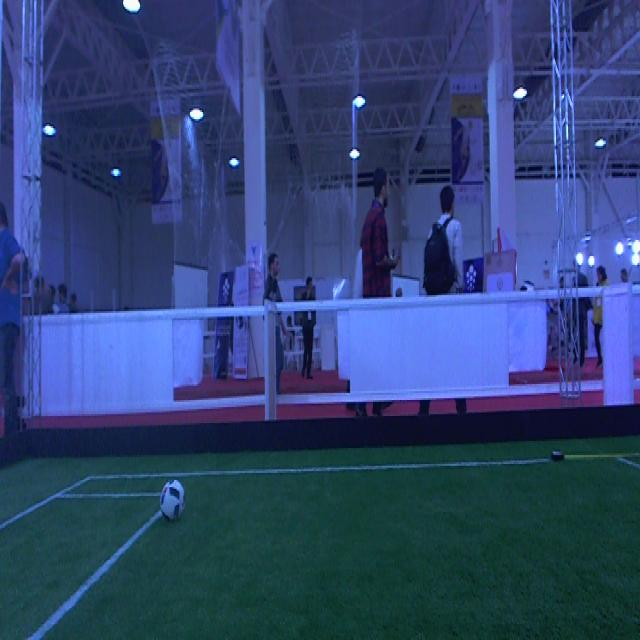ball: (159, 477, 184, 522)
